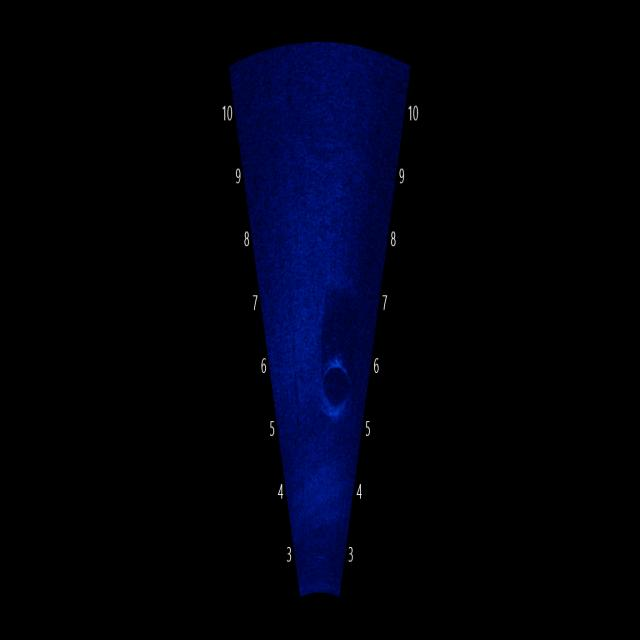circle: (316, 347, 361, 428)
